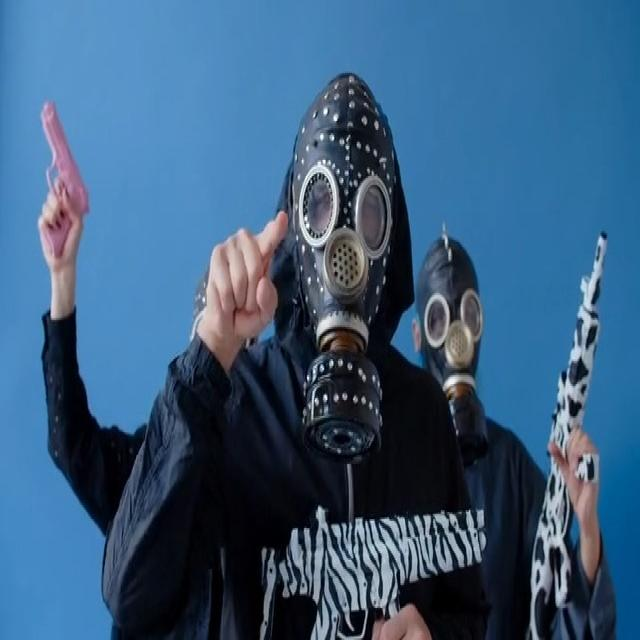Gun_Holder: (510, 198, 624, 640), (20, 97, 100, 307)
Person: (107, 48, 468, 640), (417, 215, 601, 640)
